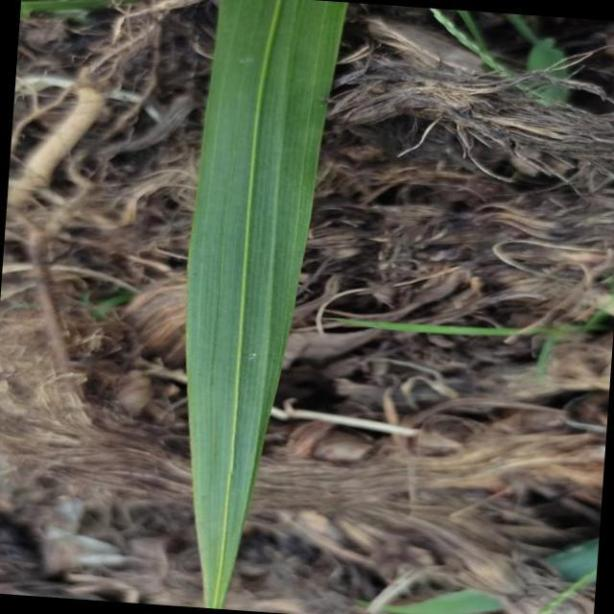Healthy: (184, 0, 352, 614)
